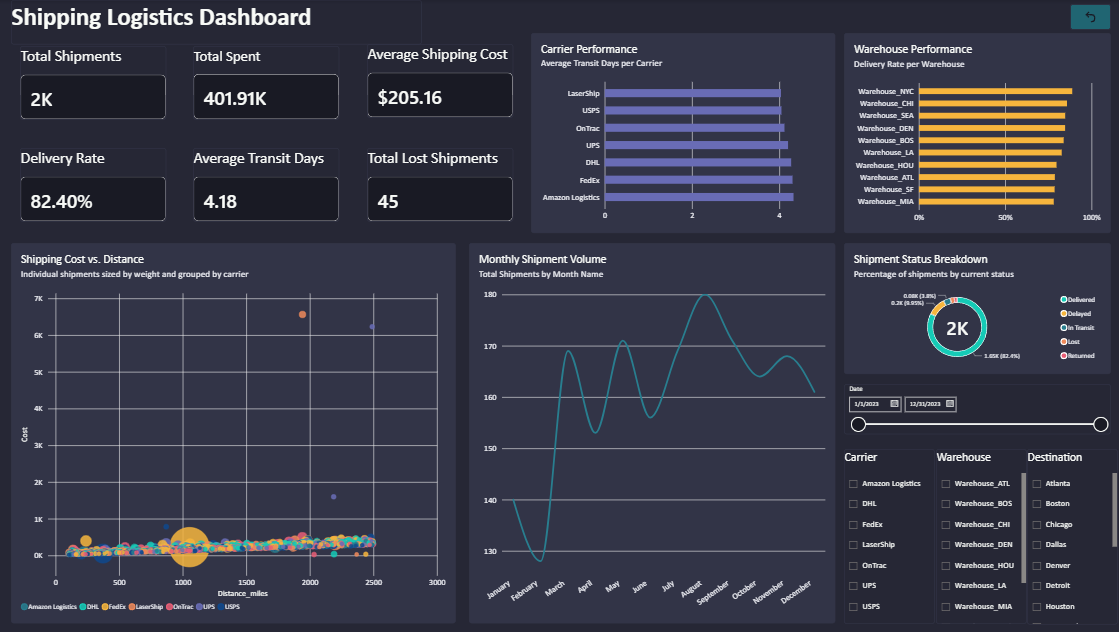

This screenshot's page, from the dashboard's own definition file:
{"tool":"powerbi","page":{"name":"Dashboard","canvas":[1920,1080],"ordinal":0},"visuals":[{"type":"cardVisual","title":"Total Shipments","fields":{"Data":["CountNonNull(fact_shipments.Shipment_ID)"]},"box":[38.9,77.8,250,126.4],"z":0},{"type":"cardVisual","title":"Total Spent","fields":{"Data":["Sum(fact_shipments.Cost)"]},"box":[335.4,77.8,250,126.4],"z":1},{"type":"textbox","box":[24,0,702,76],"z":2},{"type":"cardVisual","title":"Average Shipping Cost","fields":{"Data":["Avg(fact_shipments.Cost)"]},"box":[631.9,75.3,250,126],"z":3},{"type":"cardVisual","title":"Average Transit Days","fields":{"Data":["Avg(fact_shipments.Transit_Days)"]},"box":[335.4,252.8,250,126],"z":4},{"type":"cardVisual","title":"Delivery Rate","fields":{"Data":["fact_shipments.Delivery Rate"]},"box":[38.9,252.8,250,126],"z":5},{"type":"cardVisual","title":"Total Lost Shipments","fields":{"Data":["fact_shipments.Total Lost Shipments"]},"box":[631.9,252.8,250,126],"z":6},{"type":"lineChart","title":"Monthly Shipment Volume","fields":{"Category":["dim_date.Month Name"],"Y":["fact_shipments.Total Shipments"]},"box":[806,416,626,650],"z":7},{"type":"donutChart","title":"Shipment Status Breakdown","fields":{"Category":["dim_status.Status"],"Y":["CountNonNull(fact_shipments.Status_Key)"]},"box":[1448,416,456,224],"z":8},{"type":"barChart","title":"Carrier Performance","fields":{"Category":["dim_carier.Carrier"],"Y":["Avg(fact_shipments.Transit_Days)"]},"box":[912,56,520,342],"z":9},{"type":"barChart","title":"Warehouse Performance","fields":{"Category":["dim_warehouse.Origin_Warehouse"],"Y":["fact_shipments.Delivery Rate"]},"box":[1448,56,456,342],"z":10},{"type":"scatterChart","title":"Shipping Cost vs. Distance","fields":{"Series":["dim_carier.Carrier"],"Size":["Sum(fact_shipments.Weight_kg)"],"X":["fact_shipments.Distance_miles"],"Y":["fact_shipments.Cost"]},"box":[24,416,760,650],"z":11},{"type":"slicer","fields":{"Values":["dim_date.Date"]},"box":[1448,656,456,86],"z":12},{"type":"slicer","title":"Carrier","fields":{"Values":["dim_carier.Carrier"]},"box":[1448,768,155,298.8],"z":13},{"type":"slicer","title":"Warehouse","fields":{"Values":["dim_warehouse.Origin_Warehouse"]},"box":[1604,768,155,298.8],"z":14},{"type":"slicer","title":"Destination","fields":{"Values":["dim_destination.Destination"]},"box":[1760,768,155,300],"z":15},{"type":"actionButton","box":[1834,6.7,70,44.3],"z":16}]}

Visuals, with their boxes in screenshot pixels (x1, y1, x2, y2), scaled from the page's 1920x1080 canvas onto the 1119x632 screenshot:
"Total Shipments" cardVisual: rect(23, 46, 168, 119)
"Total Spent" cardVisual: rect(195, 46, 341, 119)
textbox: rect(14, 0, 423, 44)
"Average Shipping Cost" cardVisual: rect(368, 44, 514, 118)
"Average Transit Days" cardVisual: rect(195, 148, 341, 222)
"Delivery Rate" cardVisual: rect(23, 148, 168, 222)
"Total Lost Shipments" cardVisual: rect(368, 148, 514, 222)
"Monthly Shipment Volume" lineChart: rect(470, 243, 835, 624)
"Shipment Status Breakdown" donutChart: rect(844, 243, 1110, 375)
"Carrier Performance" barChart: rect(532, 33, 835, 233)
"Warehouse Performance" barChart: rect(844, 33, 1110, 233)
"Shipping Cost vs. Distance" scatterChart: rect(14, 243, 457, 624)
slicer - dim_date.Date: rect(844, 384, 1110, 434)
"Carrier" slicer: rect(844, 449, 934, 624)
"Warehouse" slicer: rect(935, 449, 1025, 624)
"Destination" slicer: rect(1026, 449, 1116, 625)
actionButton: rect(1069, 4, 1110, 30)
